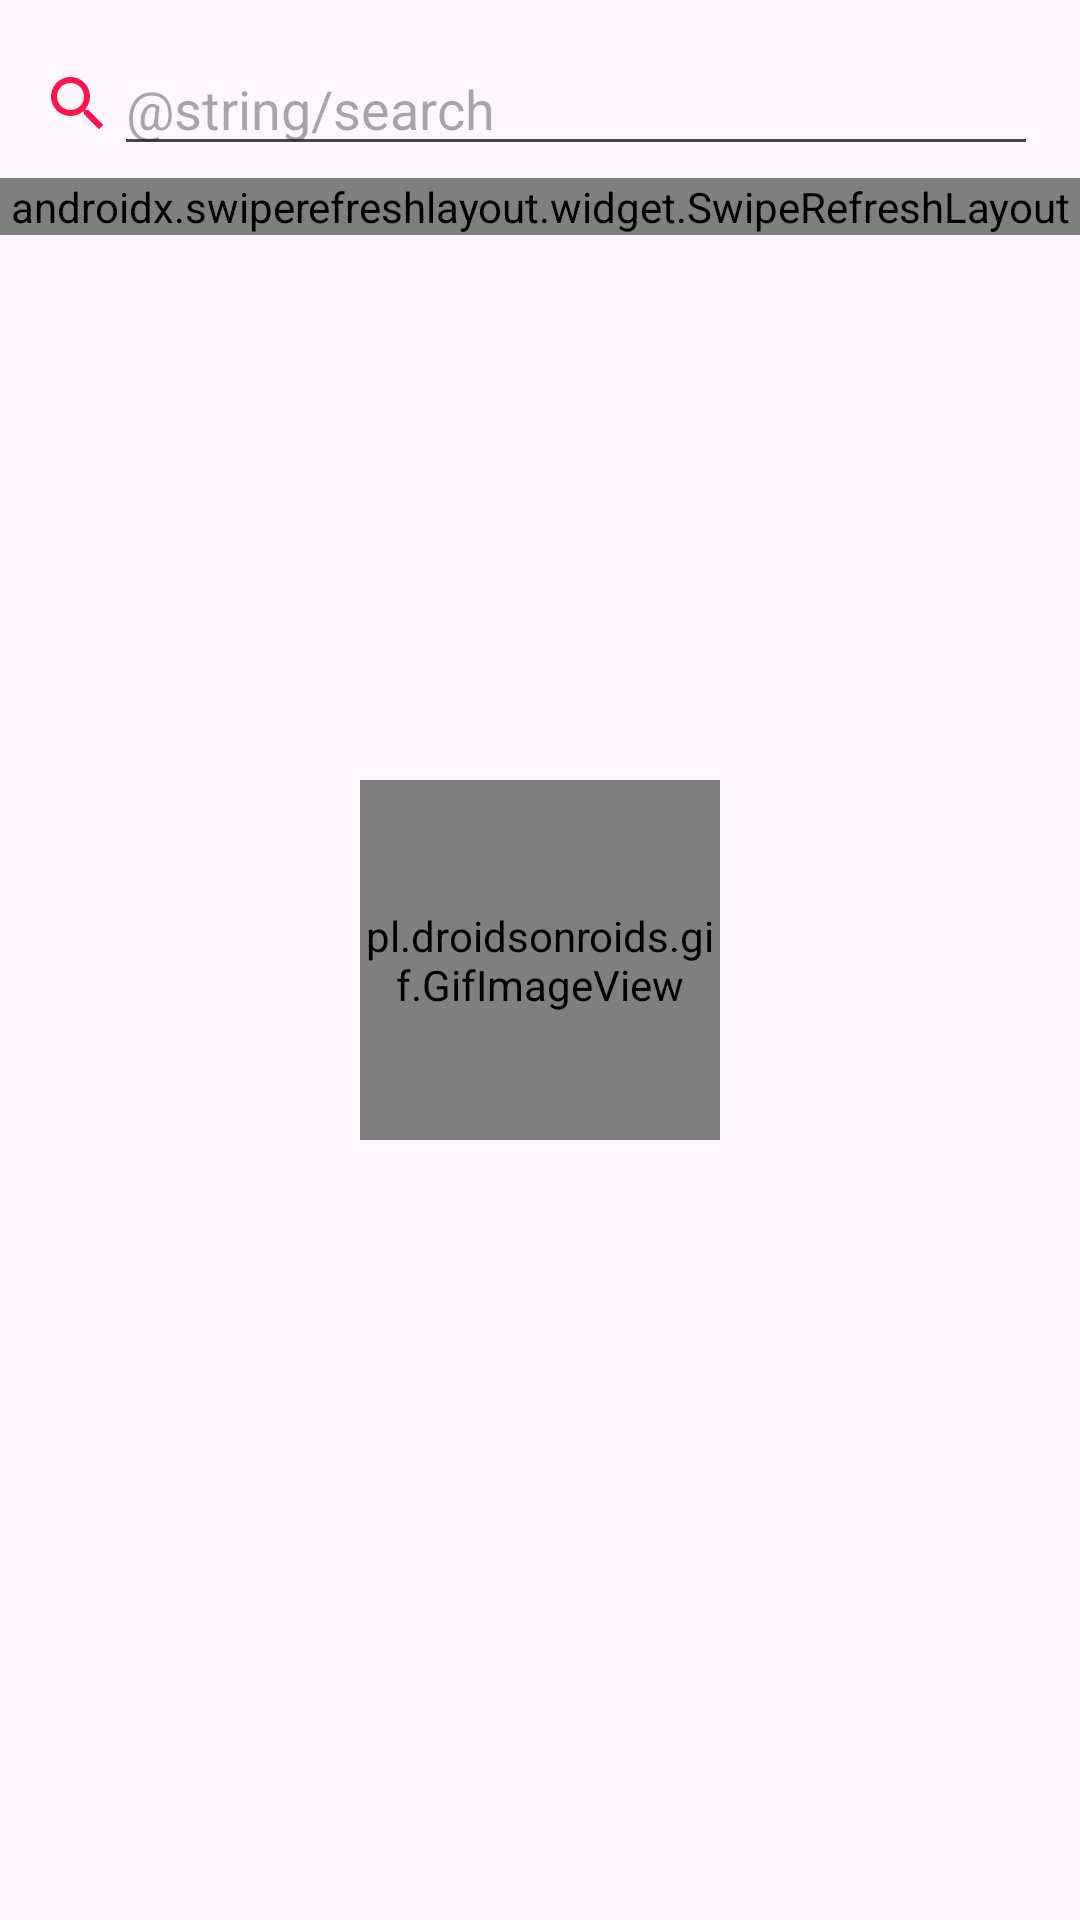

Icons on this 1080 x 1920 Android screen, each with the point to tap as (x,y):
search: (77,103)
